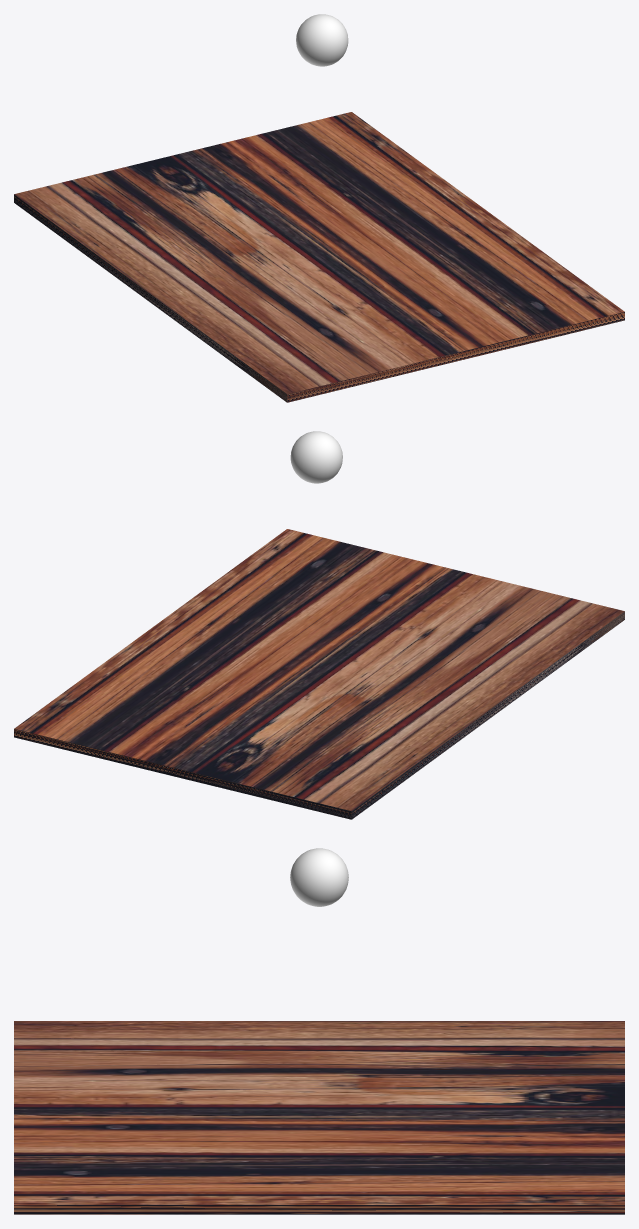
File: test-now.gltf
3 views of the same model, one above another, from view 1: azimuth 30°, elevation 25°; view 2: azimuth 150°, elevation 25°; view 3: azimuth 270°, elevation 25° (orthographic). The views are drawn at different scales.
Visible parts, largest first — view 1: Cube, Sphere; view 2: Cube, Sphere; view 3: Cube, Sphere.
Part boxes in pixels (x1,y1,x2,y2): Cube: [14, 112, 624, 402]; Sphere: [296, 14, 348, 66]; Cube: [14, 529, 624, 819]; Sphere: [290, 431, 342, 483]; Cube: [14, 1021, 624, 1214]; Sphere: [290, 848, 348, 906].
Size of the model in its own units: 7.42 by 5.13 by 10.4.
2 materials, 1 textured.
